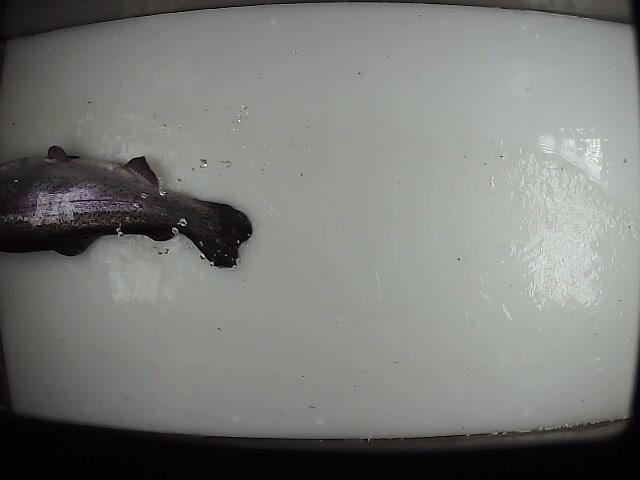fish: (1, 142, 254, 270)
